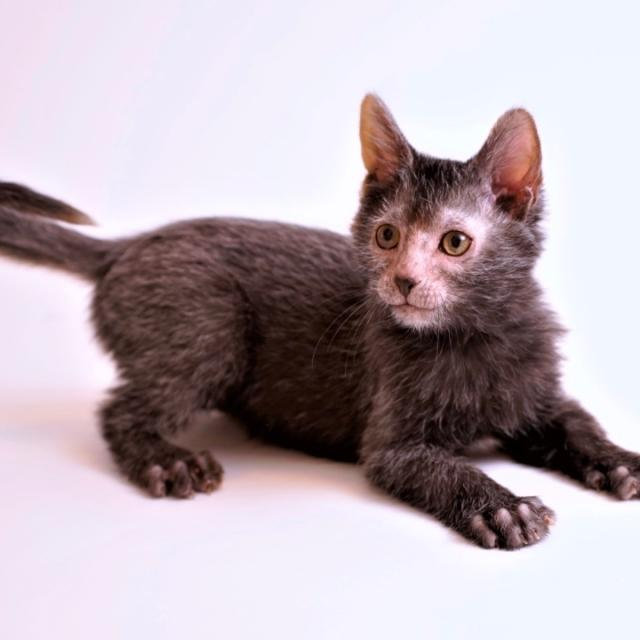Lykoi: (0, 84, 640, 556)
